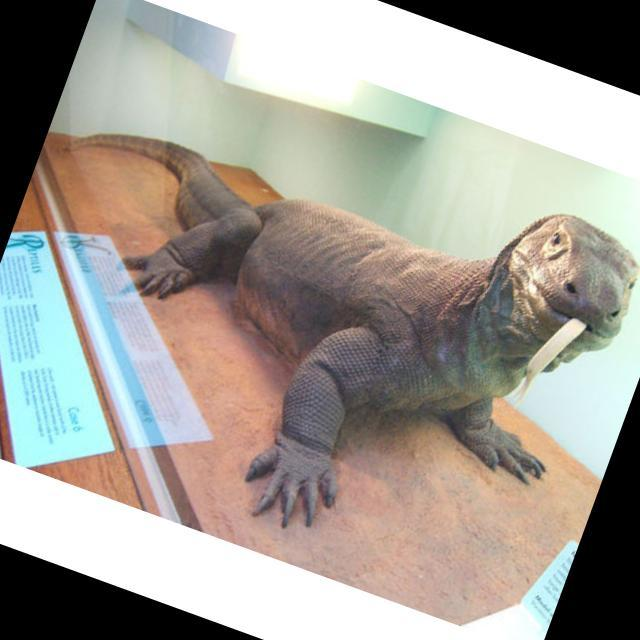KomodoDragon: (0, 39, 640, 614)
